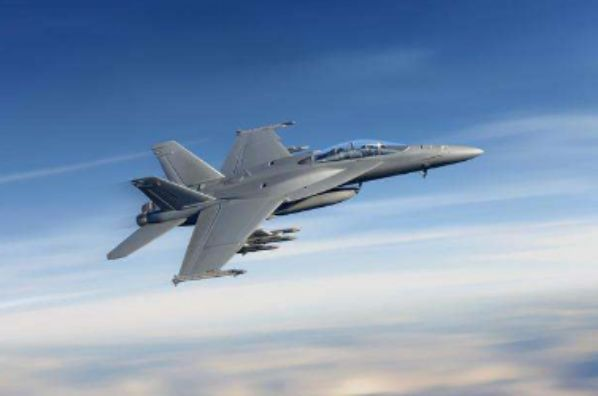airplane: (103, 121, 485, 285)
